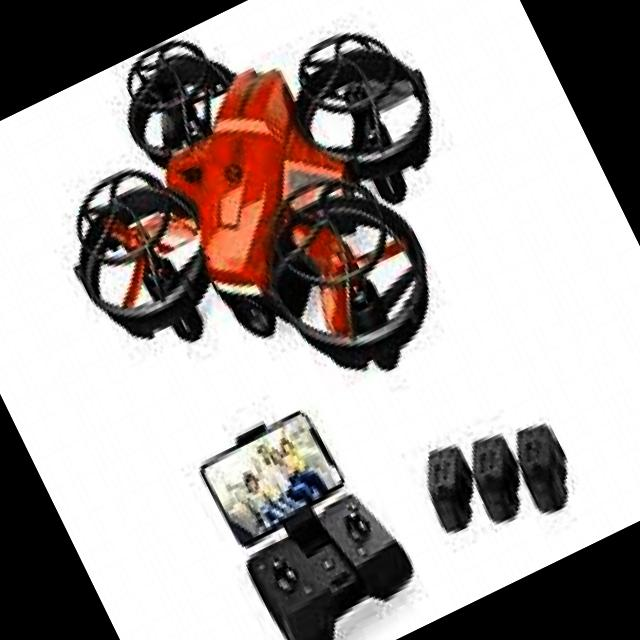drone: (0, 0, 539, 480)
